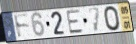2: (51, 11, 68, 37)
6: (30, 11, 47, 39)
7: (87, 7, 101, 34)
E: (65, 8, 85, 35)
F: (12, 13, 31, 40)
O: (102, 5, 121, 33)
